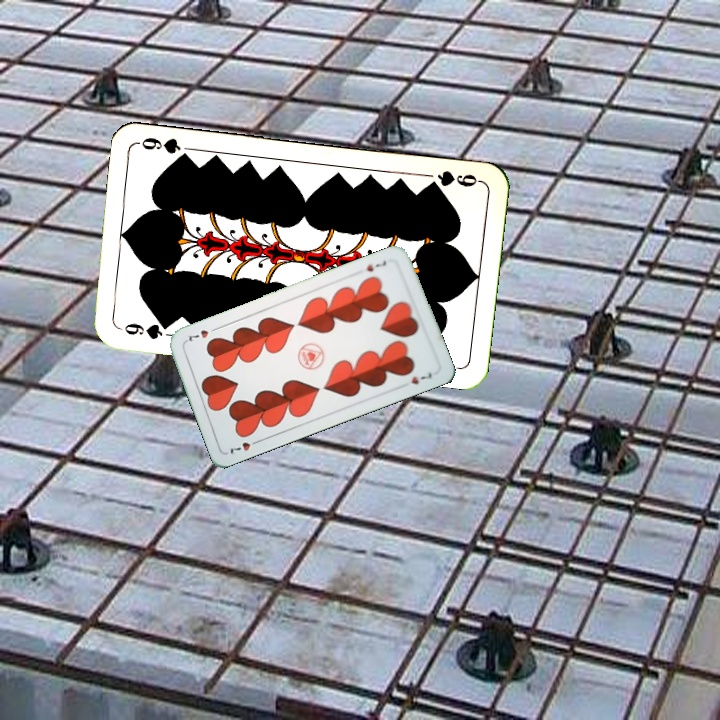G9: (423, 166, 483, 191), (115, 319, 175, 342)
H7: (226, 436, 263, 457), (363, 256, 389, 274)
